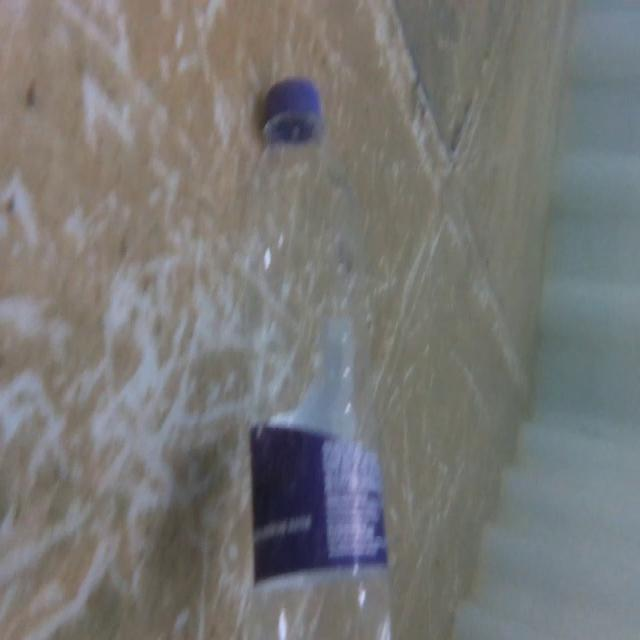plastic bottle: (230, 65, 386, 640)
